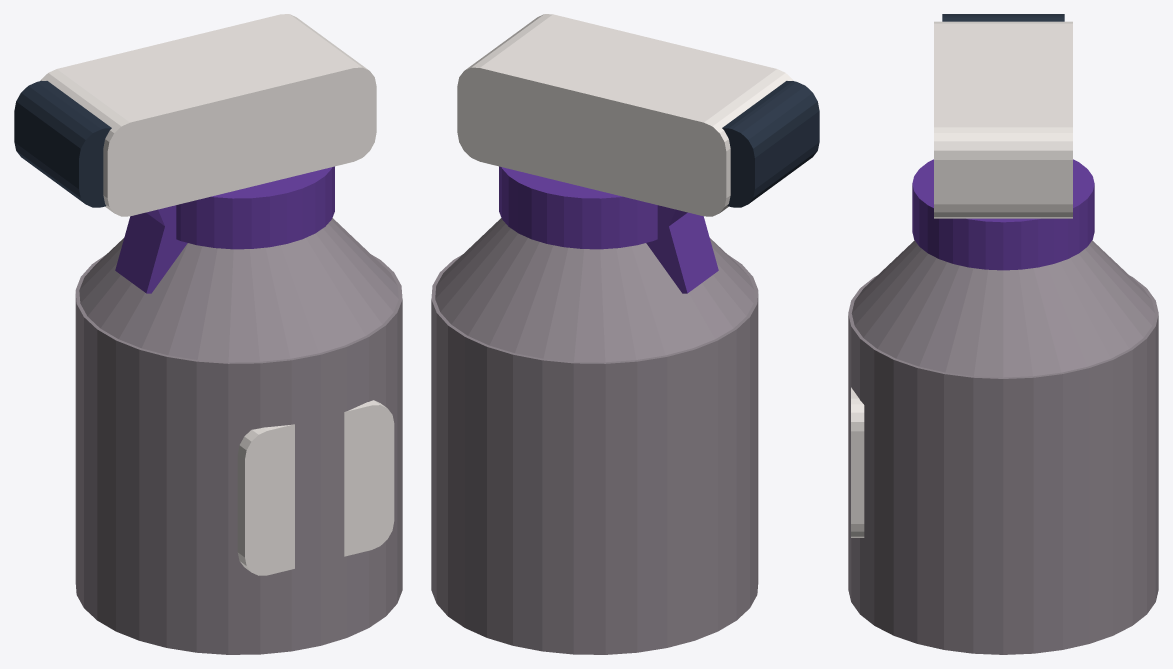
Rendered from lensbottle.glb.
3 renders of one model, left to right at view 1: azimuth 30°, elevation 25°; view 2: azimuth 150°, elevation 25°; view 3: azimuth 270°, elevation 25°, orthographic. The views are drawn at different scales.
Parts seen in each view (by area): view 1: bottle, sprayer, shoulder, label, collar, nozzle, trigger; view 2: bottle, sprayer, shoulder, collar, nozzle, trigger; view 3: bottle, shoulder, sprayer, collar, label, nozzle.
Boxes of the visible parts, x1,y1,x2,y2 form: bottle: (75,255,402,654); sprayer: (40,14,376,216); shoulder: (79,218,398,362); label: (237,400,394,575); collar: (176,166,334,249); nozzle: (14,81,111,207); trigger: (115,205,187,293); bottle: (431,255,758,654); sprayer: (457,14,793,216); shoulder: (435,218,754,362); collar: (499,166,657,249); nozzle: (722,81,819,207); trigger: (646,205,718,293); bottle: (848,276,1158,654); shoulder: (851,240,1155,377); sprayer: (934,21,1072,218); collar: (912,159,1094,270); label: (851,387,864,537); nozzle: (942,14,1064,21).
Bounding box in the file's own units: 0.895 × 1.34 × 0.76.
